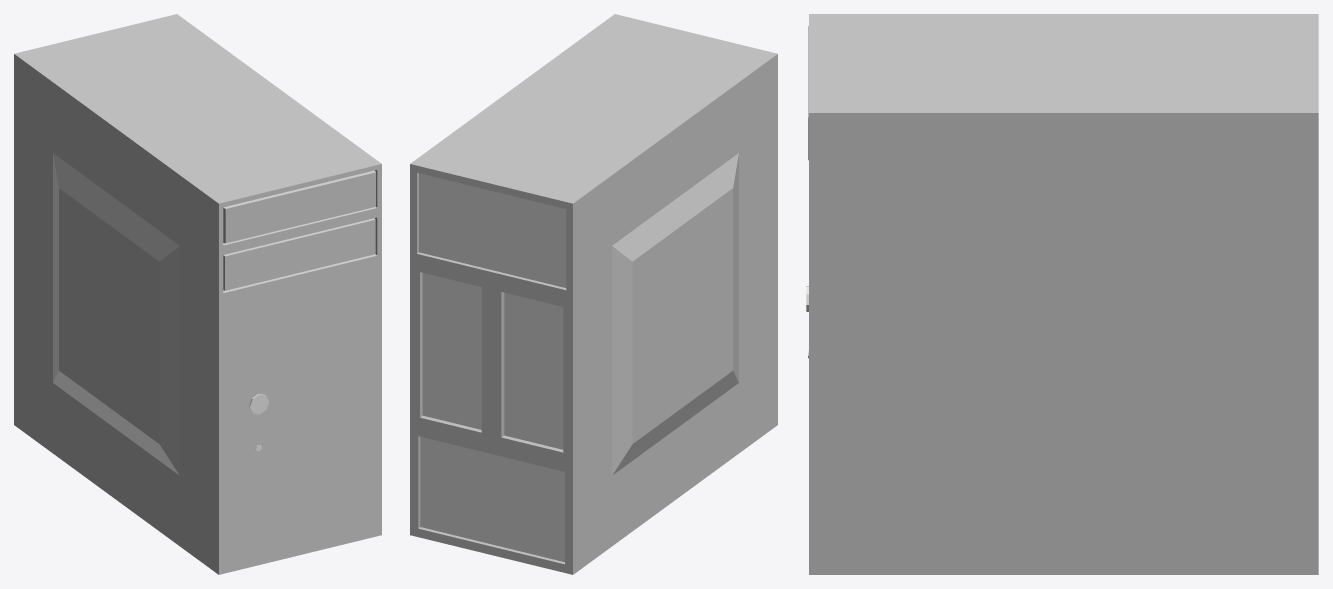
Rendered from Computer.fbx.
3 views of the same model, side by side, from view 1: azimuth 30°, elevation 25°; view 2: azimuth 150°, elevation 25°; view 3: azimuth 270°, elevation 25° (orthographic). The views are drawn at different scales.
Visible parts, largest first — view 1: Computer; view 2: Computer; view 3: Computer.
Boxes of the visible parts, bbox=[...] form: Computer: bbox=[14, 14, 381, 574]; Computer: bbox=[410, 14, 777, 574]; Computer: bbox=[806, 14, 1318, 574].
Size of the model in its own units: 0.3214 by 0.6694 by 0.6727.
